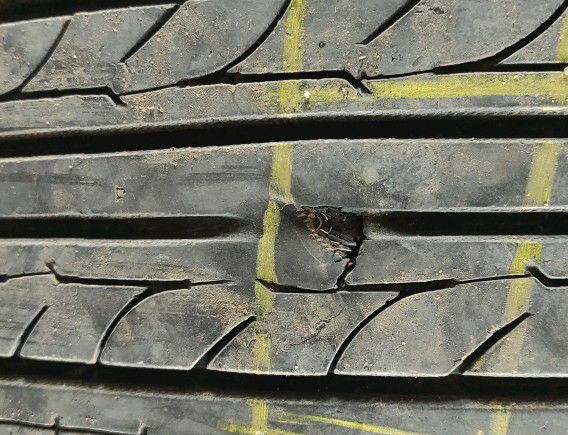tr: (293, 203, 367, 288)
